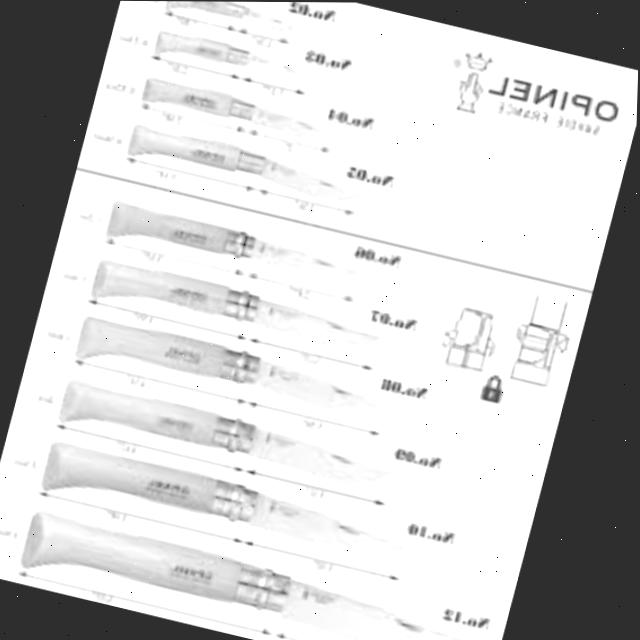knife: (14, 505, 495, 640), (42, 437, 420, 575), (59, 374, 407, 497), (73, 309, 403, 428), (89, 253, 391, 363), (107, 198, 372, 295), (127, 118, 371, 209), (106, 233, 363, 308), (126, 152, 362, 220), (142, 71, 342, 142), (154, 24, 314, 86), (151, 51, 310, 98), (165, 1, 304, 38)
